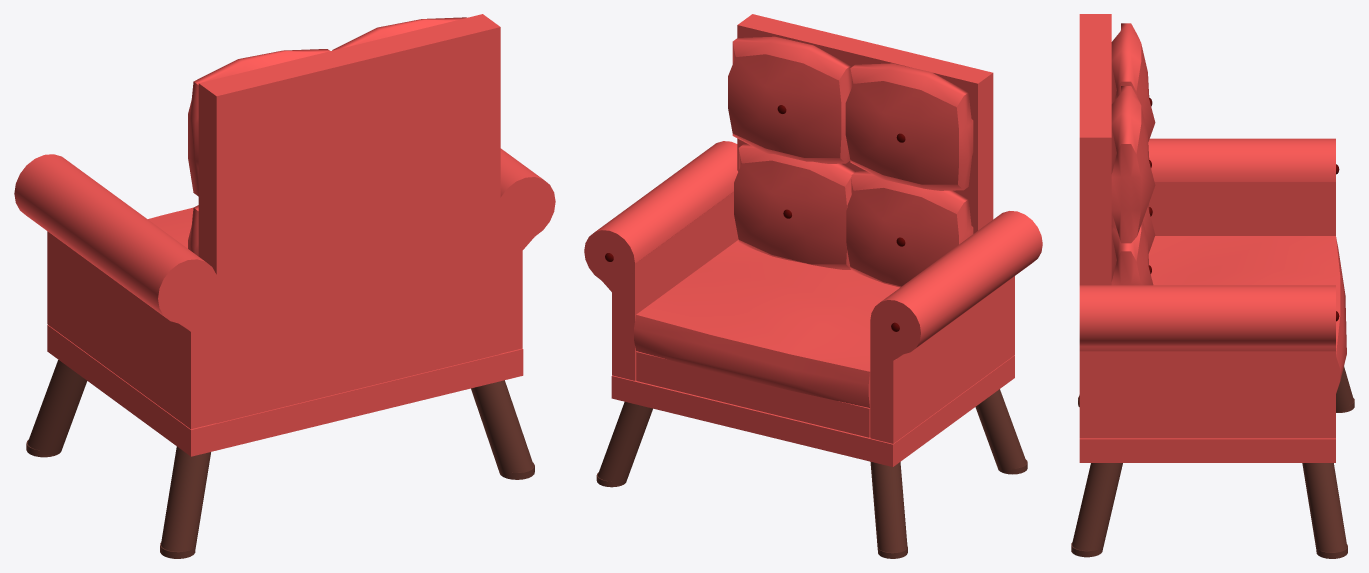
File: sofaMarceline1.obj
The picture shows the model from 3 angles, left to right: view 1: azimuth 30°, elevation 25°; view 2: azimuth 150°, elevation 25°; view 3: azimuth 270°, elevation 25°; orthographic projection. The views are drawn at different scales.
Visible parts, largest first — view 1: polySurface62; view 2: polySurface62; view 3: polySurface62.
Boxes of the visible parts, x1,y1,x2,y2 form: polySurface62: (14,14,555,558); polySurface62: (584,14,1042,558); polySurface62: (1071,14,1354,558).
Size of the model in its own units: 2.86 by 3.15 by 1.98.
Materials: 3 (3 with a texture image).
